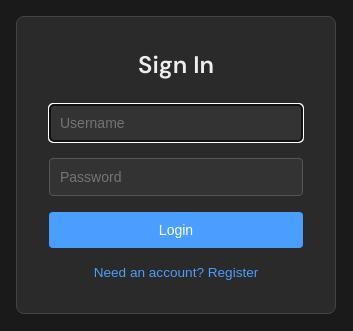
Test: LoginPage › switches back to login mode from register
This screenshot has width=353, height=331.
Click the button "Need an account? Register" at {"x": 176, "y": 272}, box [94,265,258,280]
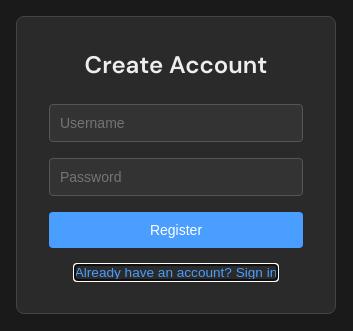
Now the heading "Create Account" is shown, box [85,49,267,80]
Click the button "Already have an account? Sign in" at {"x": 176, "y": 272}, box [75,265,277,280]
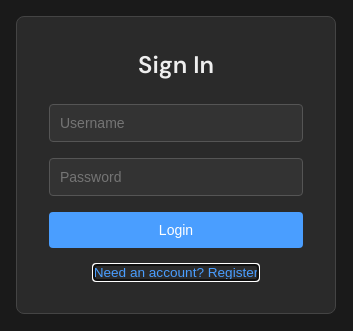
Now the heading "Sign In" is shown, box [138,49,214,80]
